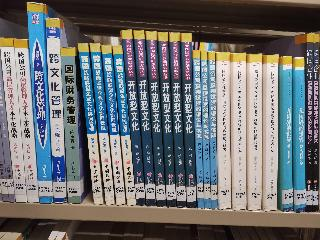book-spine: (27, 3, 54, 203), (75, 41, 104, 205), (0, 37, 27, 203), (88, 41, 115, 205), (100, 43, 127, 206), (133, 29, 157, 208), (14, 38, 40, 203), (46, 17, 68, 205), (144, 30, 167, 208), (122, 29, 145, 206), (112, 45, 136, 206), (60, 47, 83, 204), (168, 33, 188, 208), (157, 31, 176, 208), (262, 55, 280, 211), (231, 52, 248, 211), (182, 34, 197, 210), (216, 52, 232, 211), (247, 53, 263, 212), (279, 55, 293, 211), (192, 50, 204, 210), (207, 52, 219, 209), (293, 56, 305, 213), (200, 52, 211, 210), (304, 33, 313, 213), (311, 34, 319, 213)
